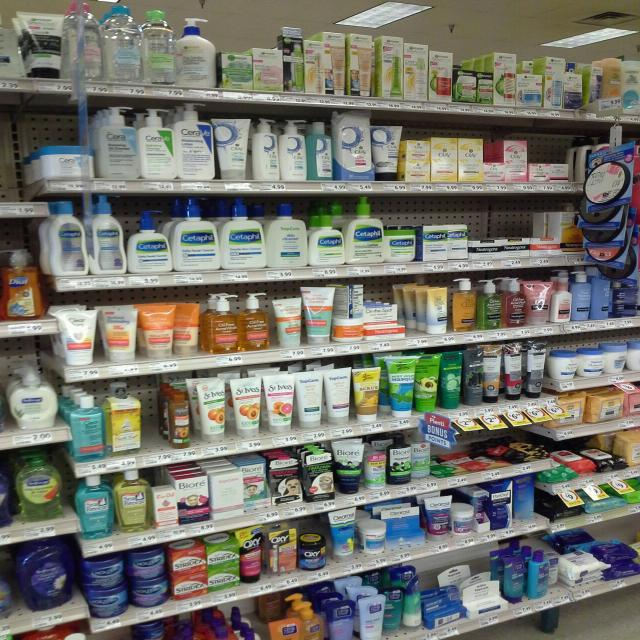empty: (132, 386, 183, 448)
